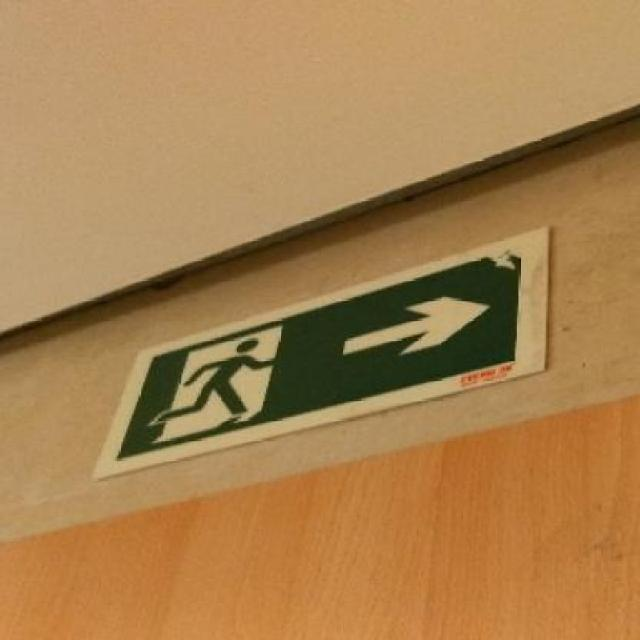exit_sign: (75, 212, 576, 496)
